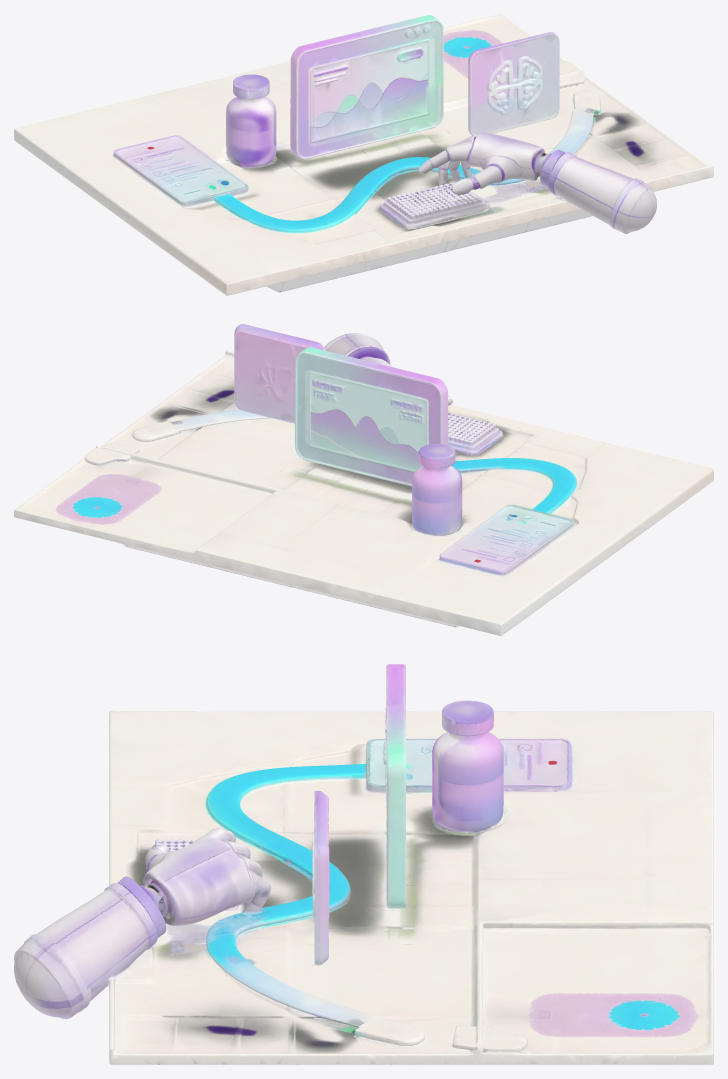
The model's file is Meshy_AI_helixos_lab_automatio_0810190211_image-to-3d-texture.glb.
The picture shows the model from 3 angles, top to bottom: view 1: azimuth 30°, elevation 25°; view 2: azimuth 150°, elevation 25°; view 3: azimuth 270°, elevation 25°; orthographic projection. The views are drawn at different scales.
Size of the model in its own units: 1.9 by 0.6181 by 1.66.
1 material, 1 textured.
